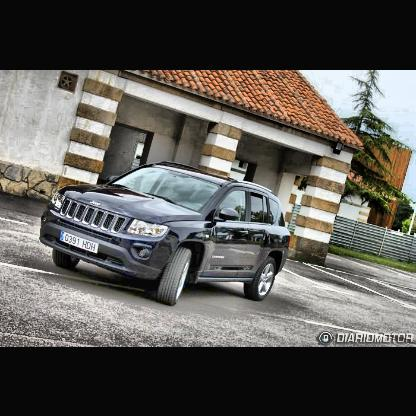Jeep Compass SUV 2012: (41, 162, 291, 307)
